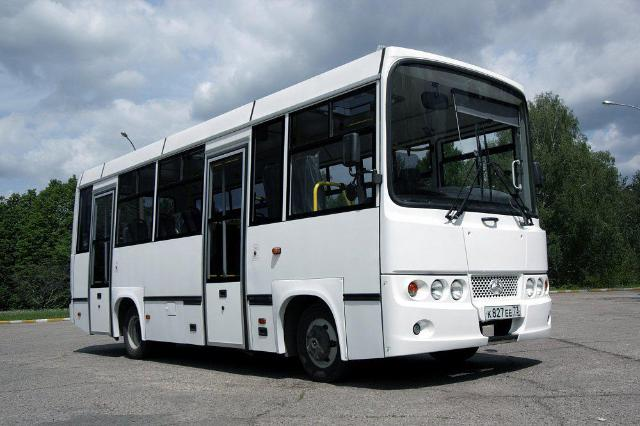bus: (66, 40, 557, 375)
